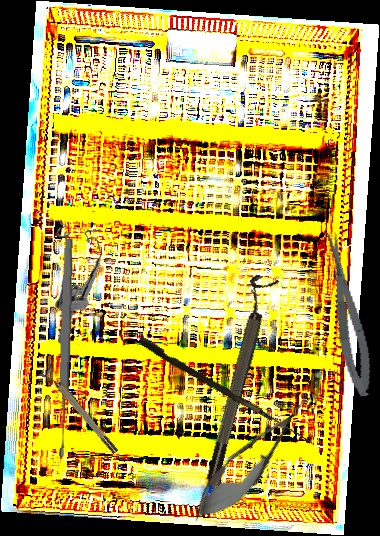Fixation Ring: (194, 273, 280, 483), (39, 363, 120, 459)
Hook Surgical: (135, 336, 318, 444)
Micro Scissor: (181, 381, 326, 535), (320, 229, 377, 399)
Speculum: (47, 215, 111, 347)
Surgical Spoon: (55, 237, 75, 459)
